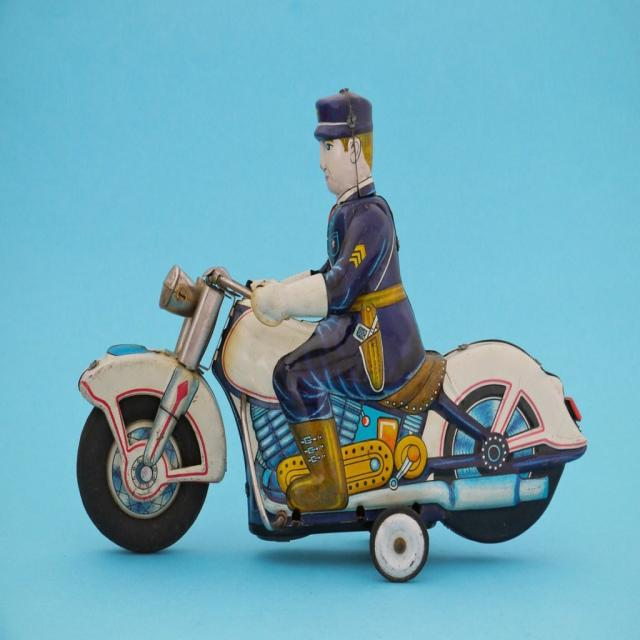Motorbikes: (73, 88, 590, 584)
